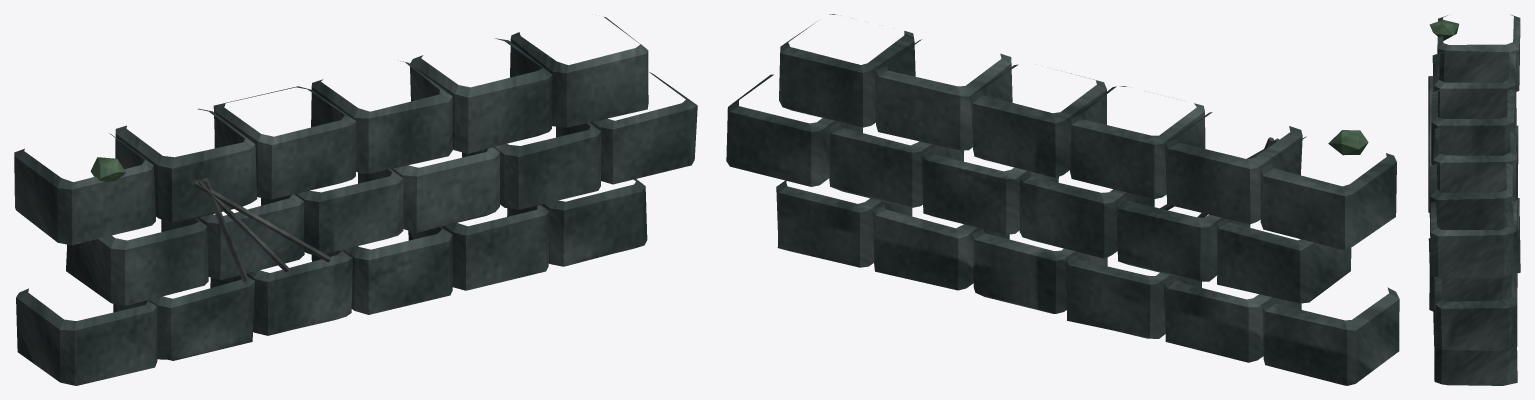
File: 0334_wall_section_09.glb
3 renders of one model, left to right at view 1: azimuth 30°, elevation 25°; view 2: azimuth 150°, elevation 25°; view 3: azimuth 270°, elevation 25°, orthographic. The views are drawn at different scales.
Visible parts, largest first — view 1: stone_dark, iron, moss; view 2: stone_dark, moss; view 3: stone_dark, iron, moss.
Boxes of the visible parts, left/top/right/bottom form: stone_dark: left=14, top=17, right=697, bottom=385; iron: left=191, top=178, right=330, bottom=281; moss: left=90, top=157, right=125, bottom=182; stone_dark: left=726, top=14, right=1399, bottom=385; moss: left=1328, top=130, right=1368, bottom=155; stone_dark: left=1428, top=14, right=1520, bottom=385; iron: left=1428, top=76, right=1433, bottom=212; moss: left=1429, top=19, right=1459, bottom=40.
Bounding box in the file's own units: 3.64 × 1.18 × 0.5931.
3 materials, 3 textured.
